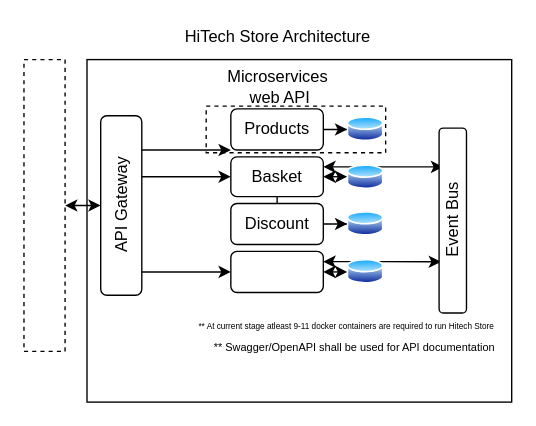
Some shapes in this 536 by 426 pixel diagram are drawn without their labels. The centre of each missing label's shape, as x and y in pixels:
"Frontend Web/Mobile" belongs at (44,204).
"Orders" belongs at (276,271).
